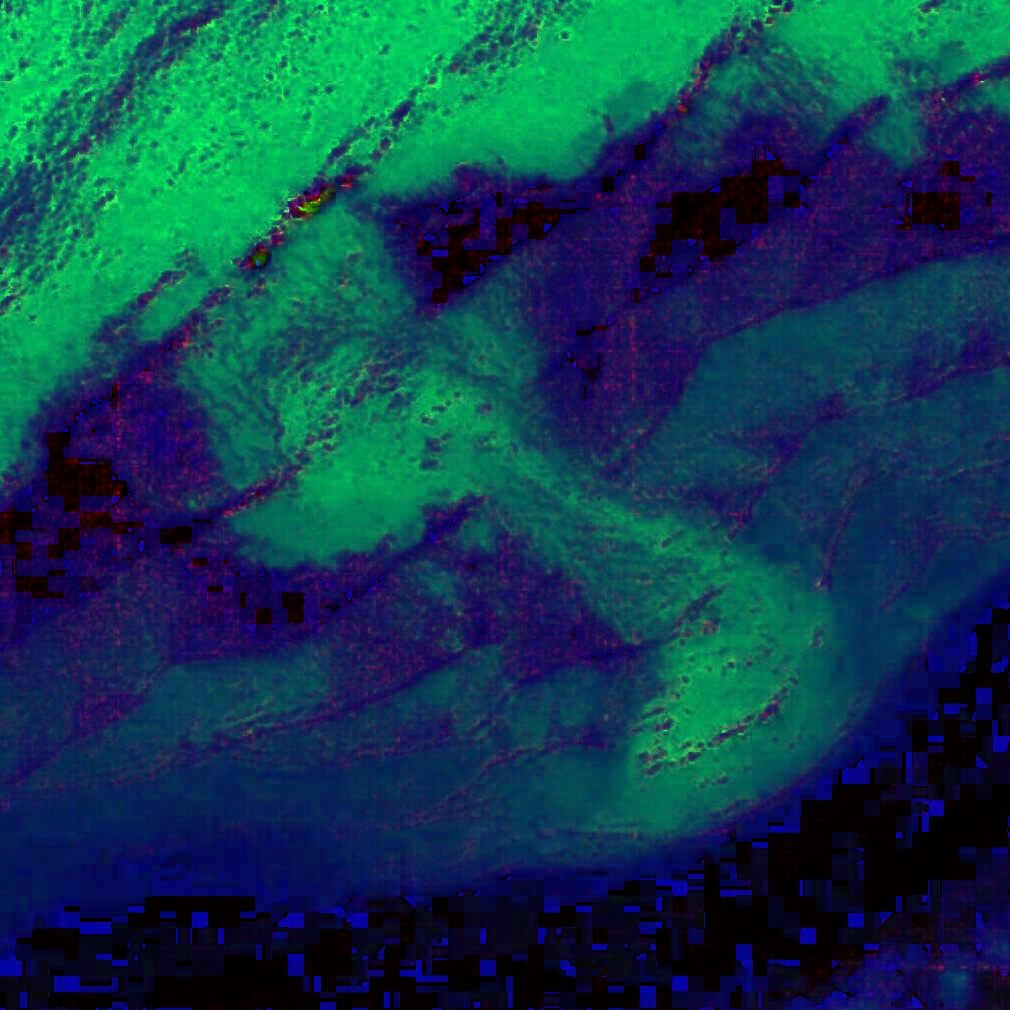rip_current: (177, 196, 833, 783)
